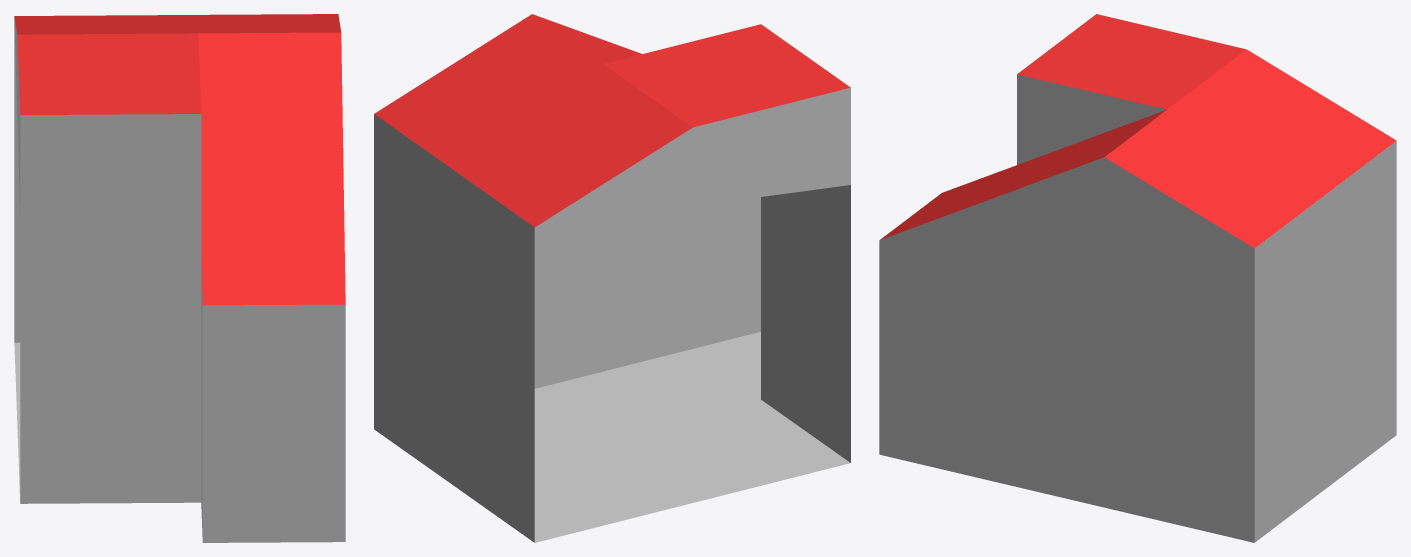
Rendered from pb-96357319-7f36-11f0-846a-9c7bef4dcf4c.dae.
3 renders of one model, left to right at view 1: azimuth 30°, elevation 25°; view 2: azimuth 150°, elevation 25°; view 3: azimuth 270°, elevation 25°, orthographic. The views are drawn at different scales.
Size of the model in its own units: 9.83 by 12.05 by 9.
